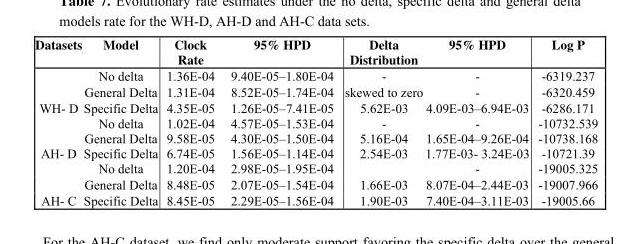table: (34, 34, 597, 207)
table column: (222, 34, 338, 207), (423, 34, 533, 207), (338, 34, 423, 207), (82, 34, 161, 207), (533, 34, 597, 207), (161, 34, 222, 207), (34, 34, 82, 207)
table column header: (34, 34, 597, 68)
table row: (34, 34, 597, 68), (34, 175, 597, 192), (34, 83, 597, 99), (34, 99, 597, 115), (34, 68, 597, 83), (34, 115, 597, 130), (34, 130, 597, 145), (34, 145, 597, 160), (34, 160, 597, 175), (34, 192, 597, 207)
table spanning cell: (34, 145, 82, 192), (34, 99, 82, 145)
